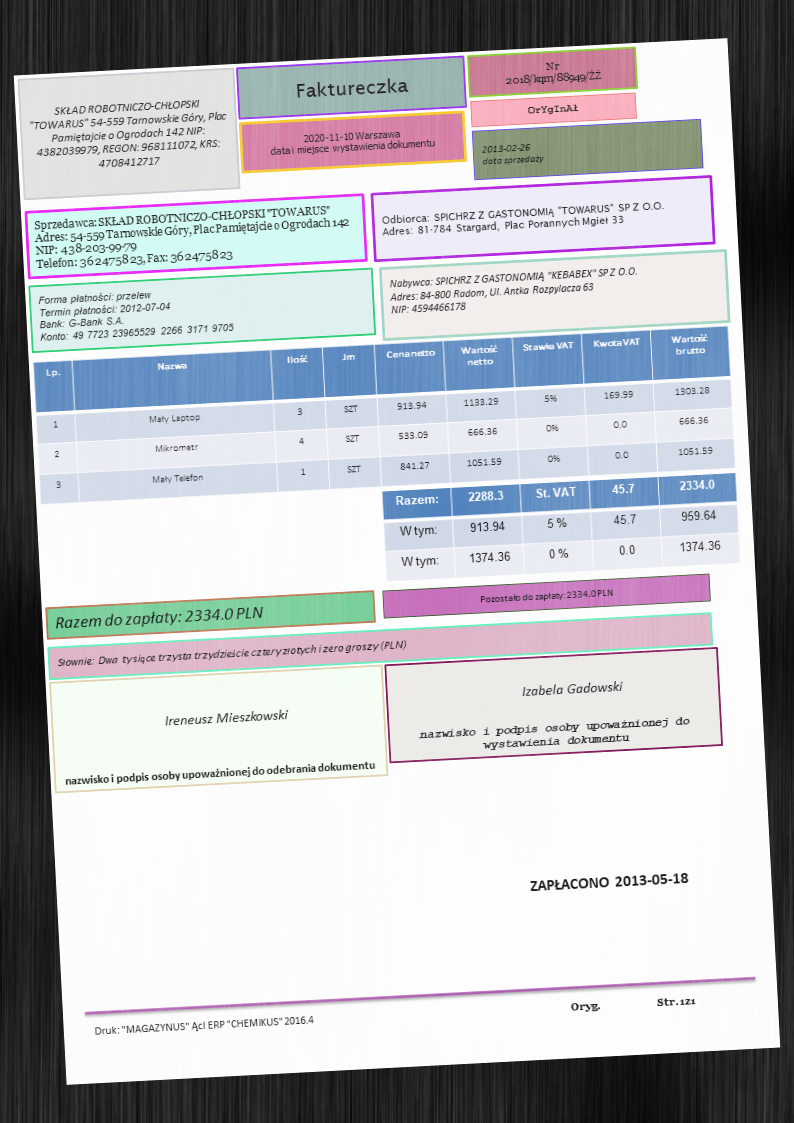Table: (31, 325, 737, 505), (380, 471, 742, 583)
TextBox: (31, 200, 355, 272), (26, 94, 234, 177), (387, 263, 643, 317), (377, 196, 668, 240), (35, 282, 237, 345), (56, 636, 408, 671), (416, 712, 694, 756), (62, 755, 377, 789), (52, 600, 266, 634), (92, 1011, 315, 1041), (266, 125, 439, 159), (524, 867, 693, 895), (501, 56, 604, 90), (161, 704, 290, 731), (476, 584, 618, 606), (293, 75, 410, 101), (568, 992, 700, 1015), (519, 675, 627, 702), (479, 140, 547, 171), (524, 100, 580, 119)
